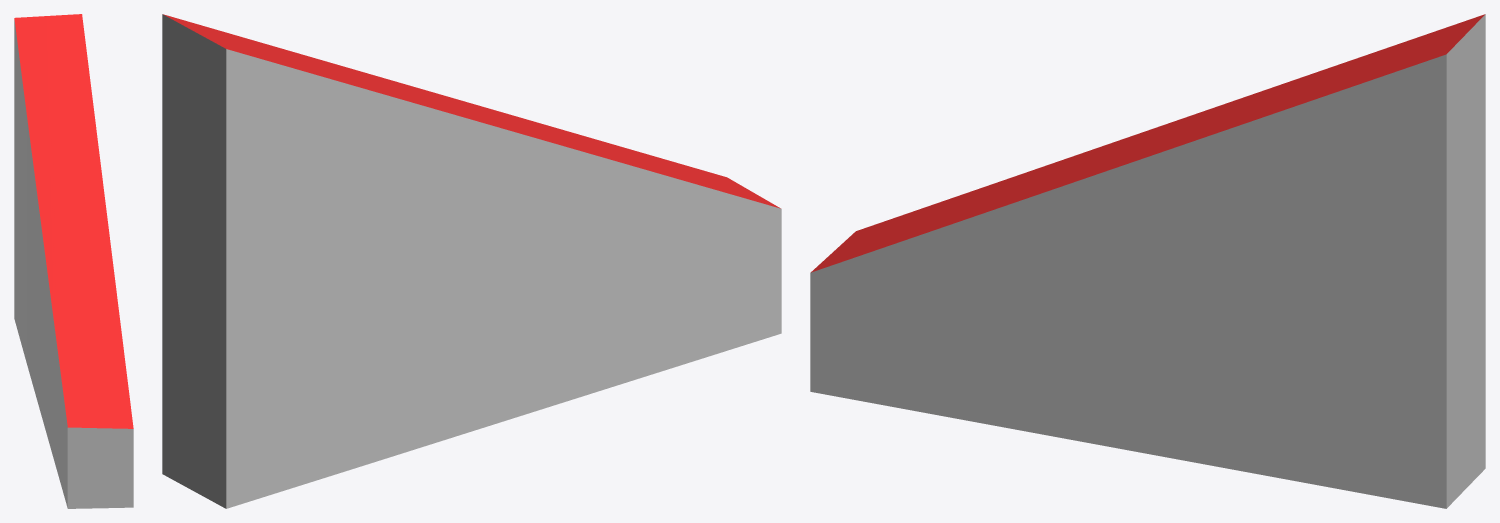
The model's file is DEBY_LOD2_42364671.dae.
3 renders of one model, left to right at view 1: azimuth 30°, elevation 25°; view 2: azimuth 150°, elevation 25°; view 3: azimuth 270°, elevation 25°, orthographic. The views are drawn at different scales.
Size of the model in its own units: 5.7 by 10.52 by 7.81.
